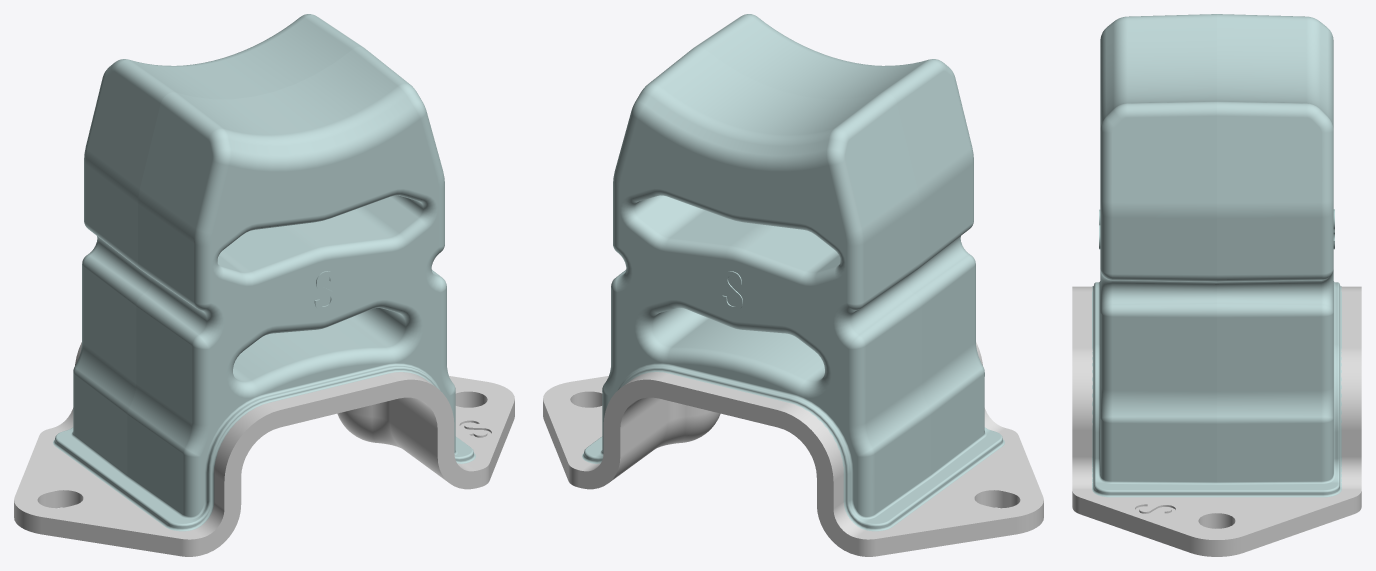
3 renders of one model, left to right at view 1: azimuth 30°, elevation 25°; view 2: azimuth 150°, elevation 25°; view 3: azimuth 270°, elevation 25°, orthographic. The views are drawn at different scales.
Parts seen in each view (by area): view 1: 4T0165-01-1, 4T0165-11-1; view 2: 4T0165-01-1, 4T0165-11-1; view 3: 4T0165-01-1, 4T0165-11-1.
Boxes of the visible parts, x1=… form: 4T0165-01-1: x1=53, y1=14, x2=475, y2=531; 4T0165-11-1: x1=14, y1=342, x2=514, y2=556; 4T0165-01-1: x1=582, y1=14, x2=1004, y2=531; 4T0165-11-1: x1=543, y1=342, x2=1043, y2=556; 4T0165-01-1: x1=1092, y1=14, x2=1341, y2=497; 4T0165-11-1: x1=1072, y1=286, x2=1361, y2=556.
Size of the model in its own units: 0.1319 by 0.1023 by 0.07.
